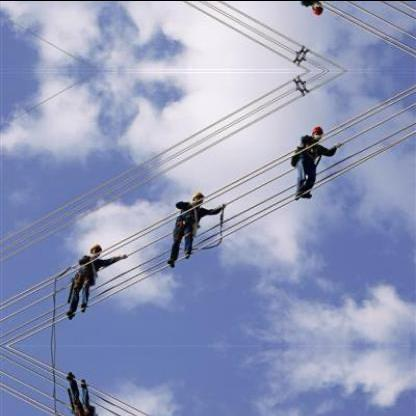Helmet: (188, 188, 204, 204), (309, 0, 324, 17), (309, 121, 323, 139), (88, 240, 102, 258)
